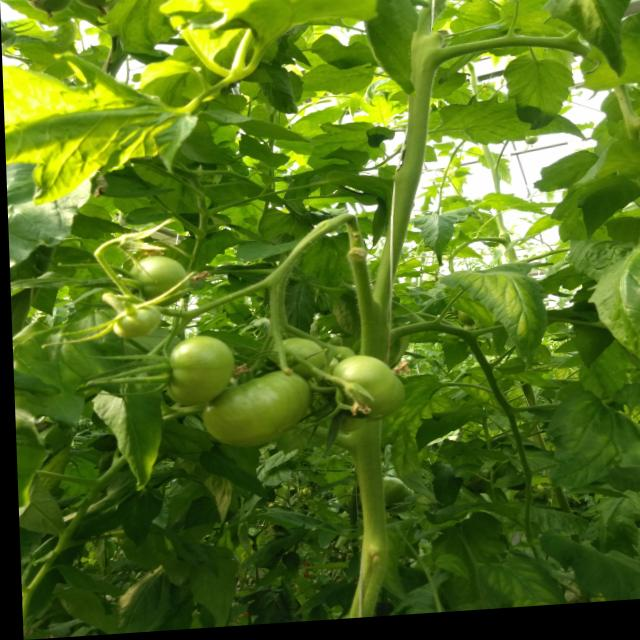yesil: (67, 242, 224, 341)
